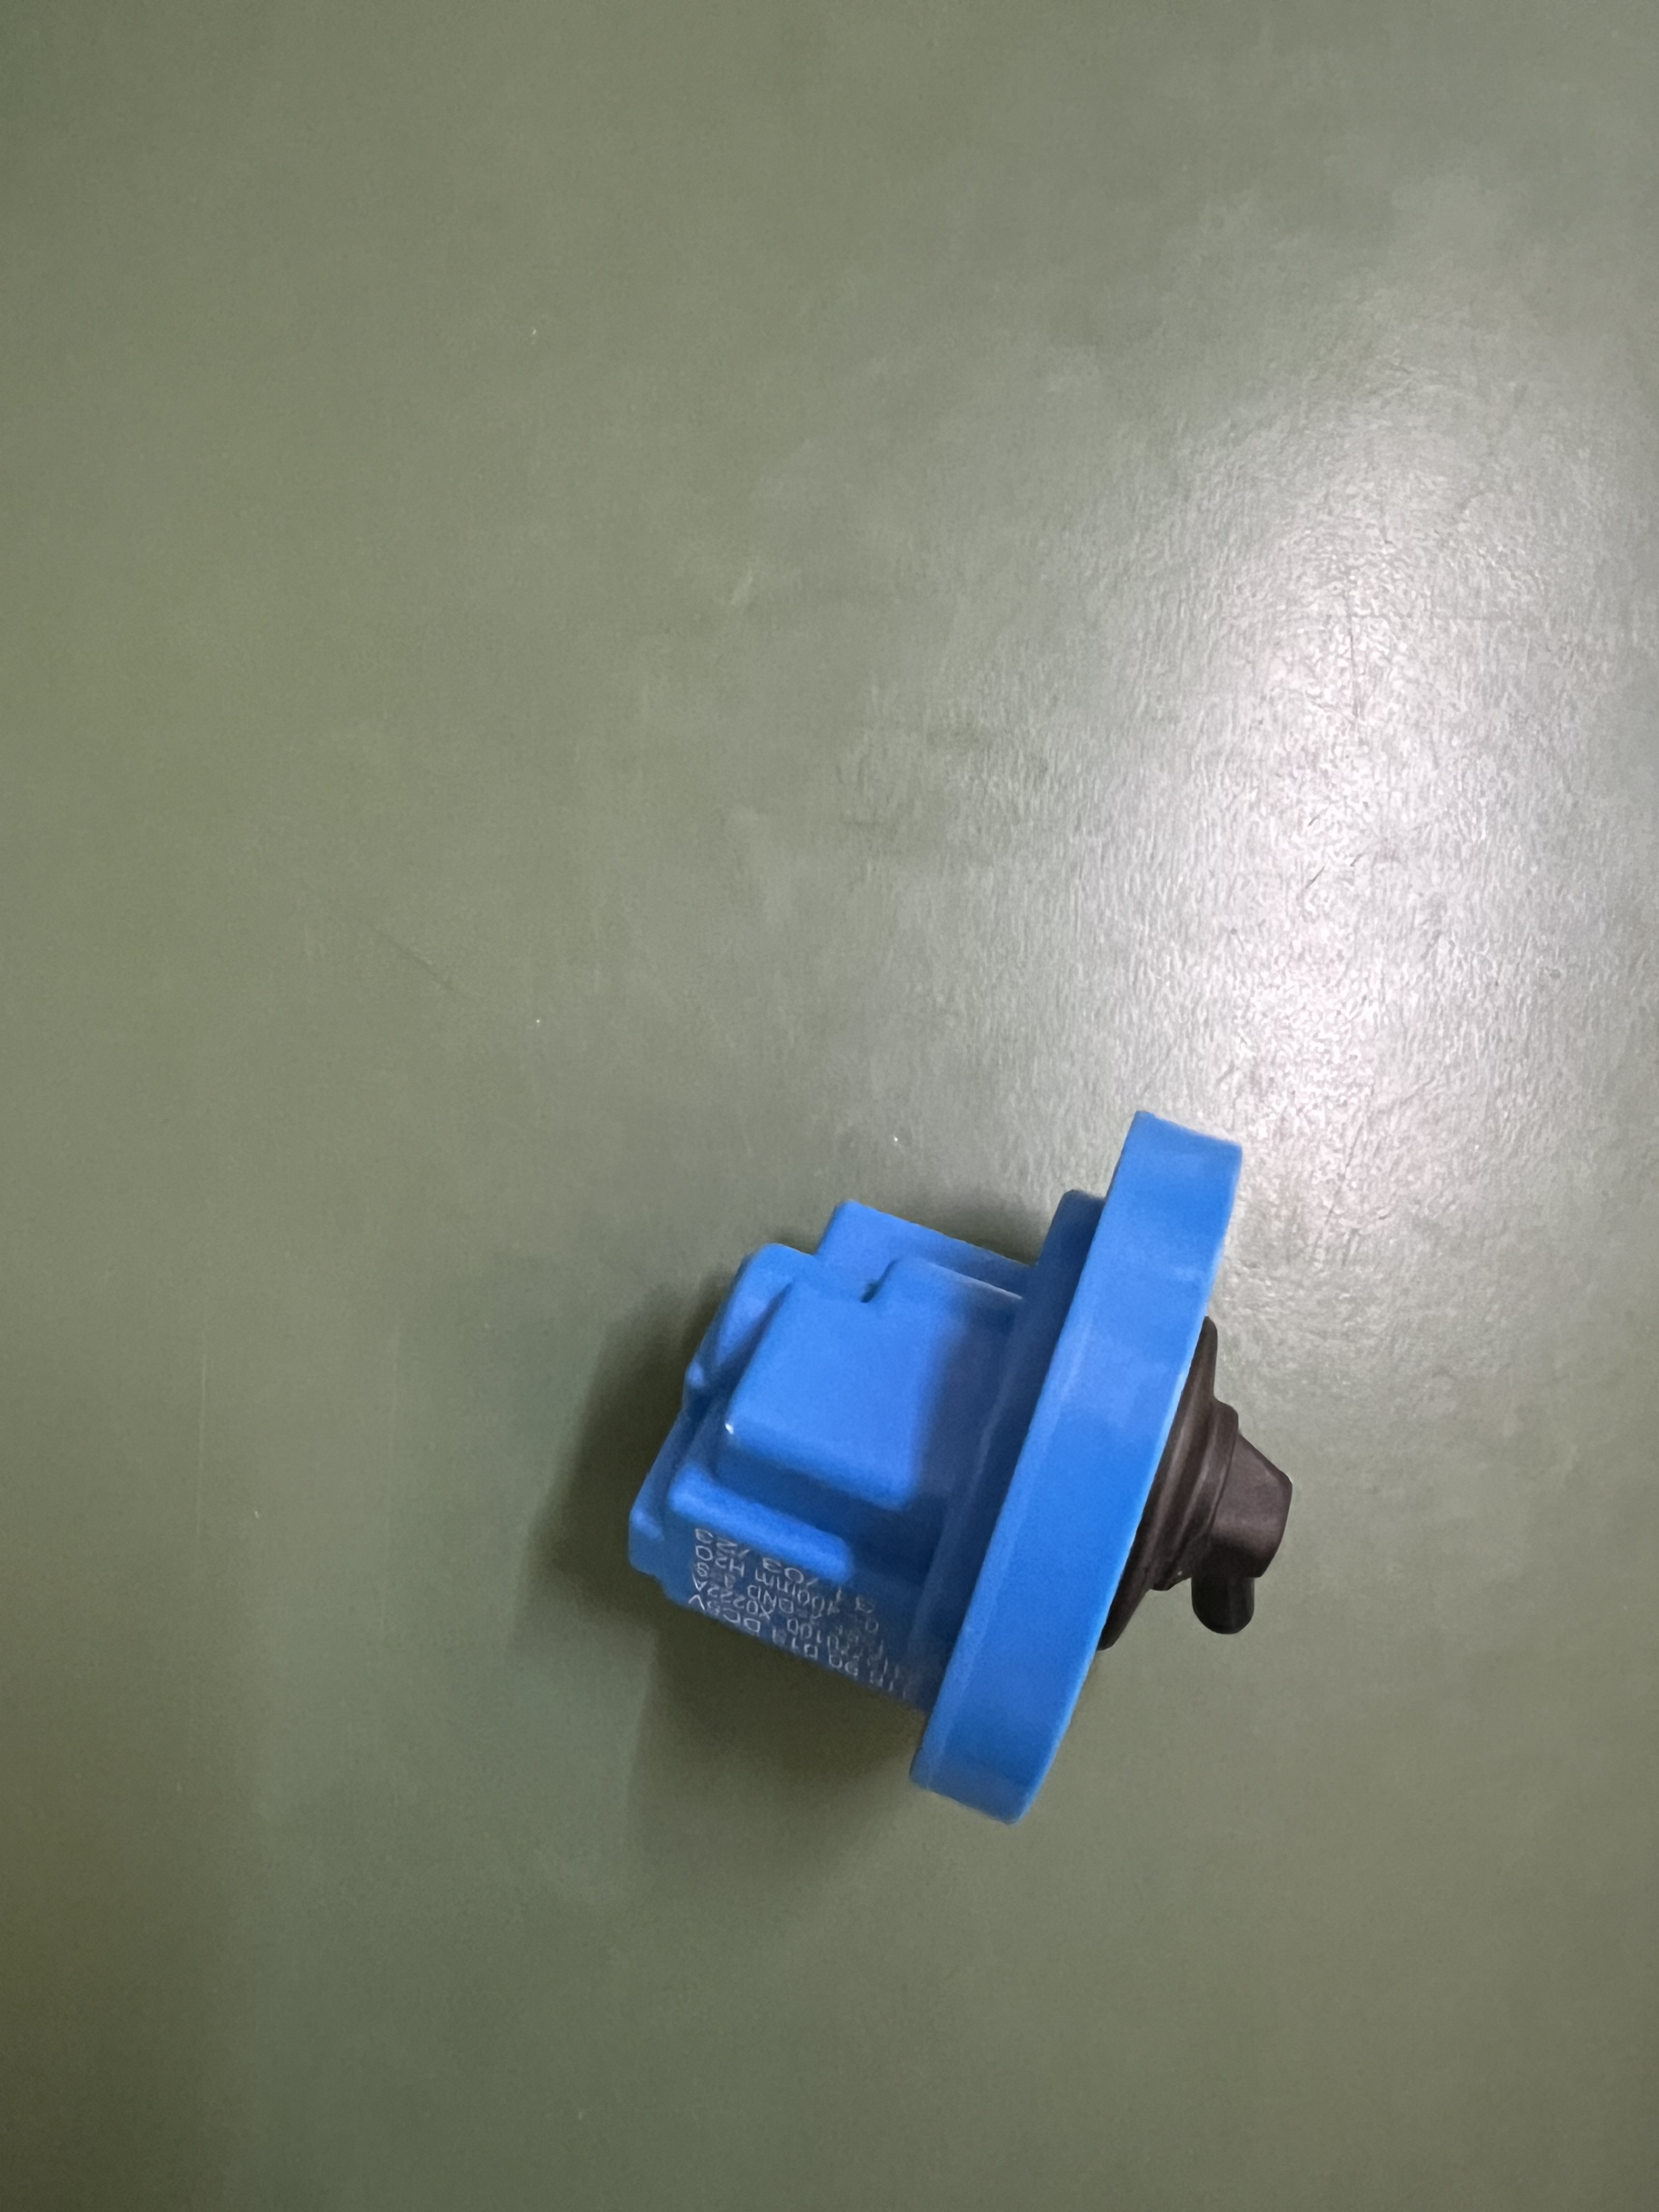voltas_beko_pressure_switch: (573, 965, 1361, 1871)
